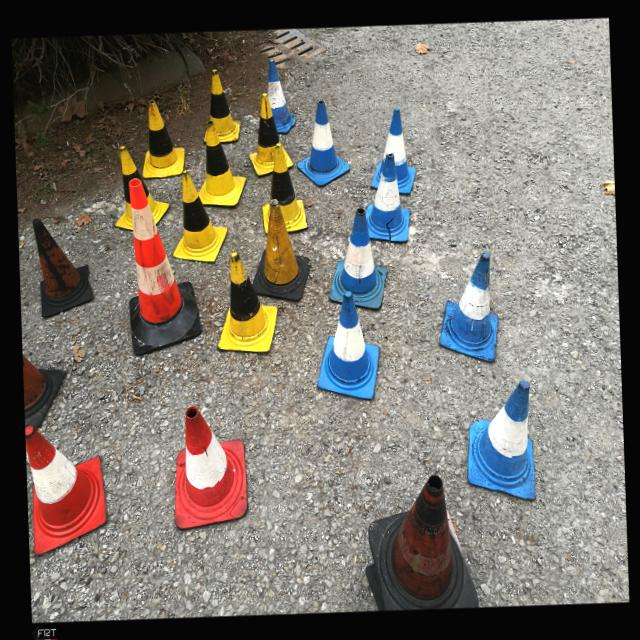blue_cone: (464, 380, 536, 502), (314, 289, 381, 402), (436, 252, 500, 364), (326, 207, 388, 310), (295, 100, 350, 188), (368, 106, 417, 196), (364, 151, 411, 243), (266, 58, 296, 134)
large_orange_cone: (125, 176, 202, 356)
orange_cone: (24, 423, 109, 555), (170, 404, 248, 528)
unknown_cone: (366, 472, 478, 610), (248, 198, 312, 302), (32, 216, 94, 317), (22, 352, 68, 428)
yellow_cone: (214, 250, 280, 354), (170, 168, 229, 262), (111, 144, 170, 230), (196, 119, 247, 207), (260, 142, 308, 234), (246, 91, 294, 176), (139, 98, 185, 178), (200, 68, 242, 143)
